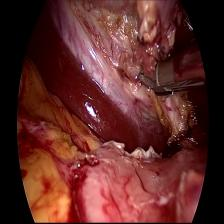Clipper: (136, 48, 201, 98)
